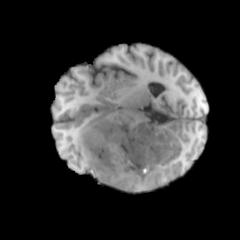glioma: (77, 114, 196, 189)
